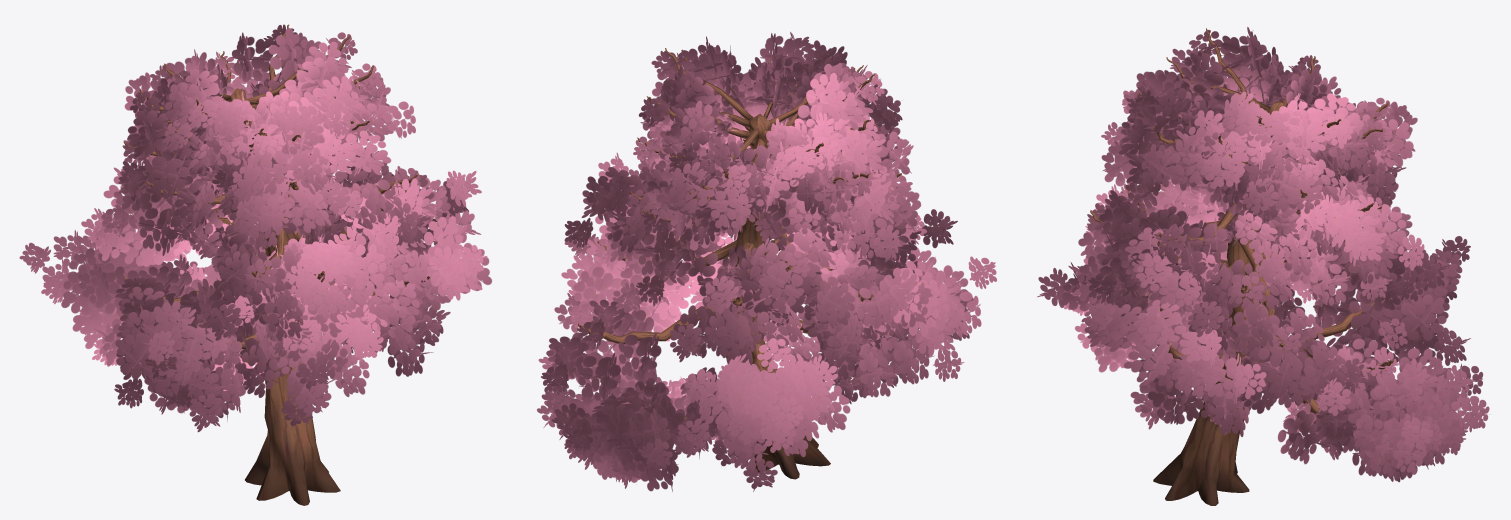
Rendered from tree-wedding-5-mature.glb.
The picture shows the model from 3 angles, left to right: view 1: azimuth 30°, elevation 25°; view 2: azimuth 150°, elevation 25°; view 3: azimuth 270°, elevation 25°; orthographic projection.
Parts seen in each view (by area): view 1: CherryBlossom_5; view 2: CherryBlossom_5; view 3: CherryBlossom_5.
Boxes of the visible parts, bbox=[...] form: CherryBlossom_5: bbox=[19, 24, 492, 505]; CherryBlossom_5: bbox=[537, 31, 996, 491]; CherryBlossom_5: bbox=[1037, 27, 1489, 505].
Size of the model in its own units: 6.3 by 6.75 by 6.56.
Materials: 2 (2 with a texture image).
